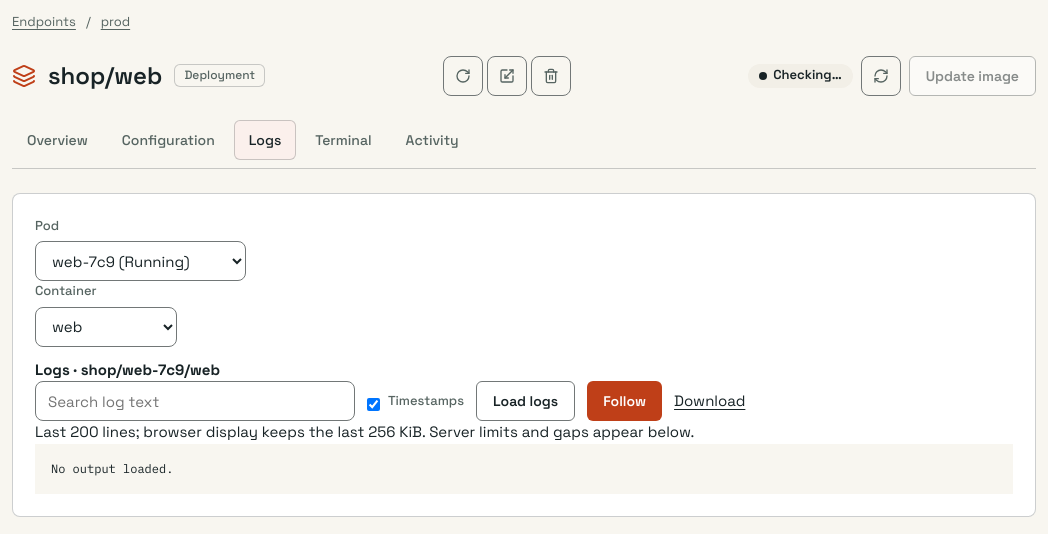
reads logs for the chosen pod and container inline
Select "log" in the dropdown labelled "Container": (106, 326) [35,306,177,346]
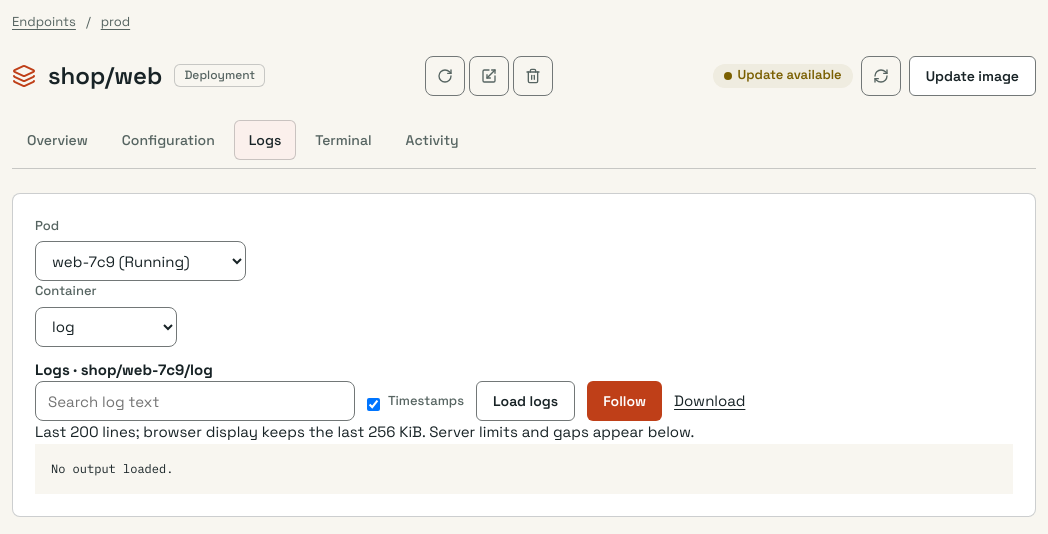
Click the button "Load logs": (526, 401) [476,381,575,421]
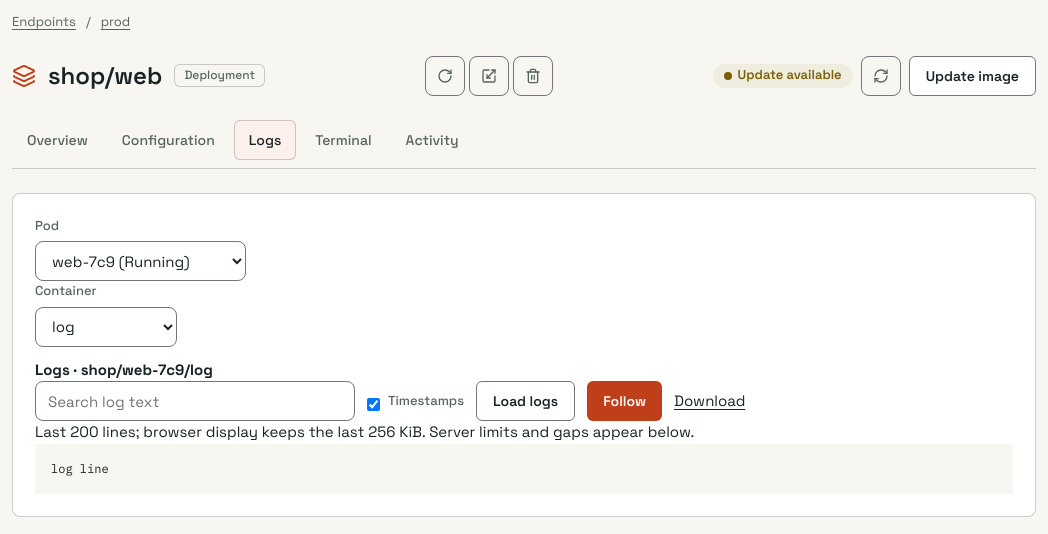
Now the text "log line" is shown, box [35,444,1013,494]
